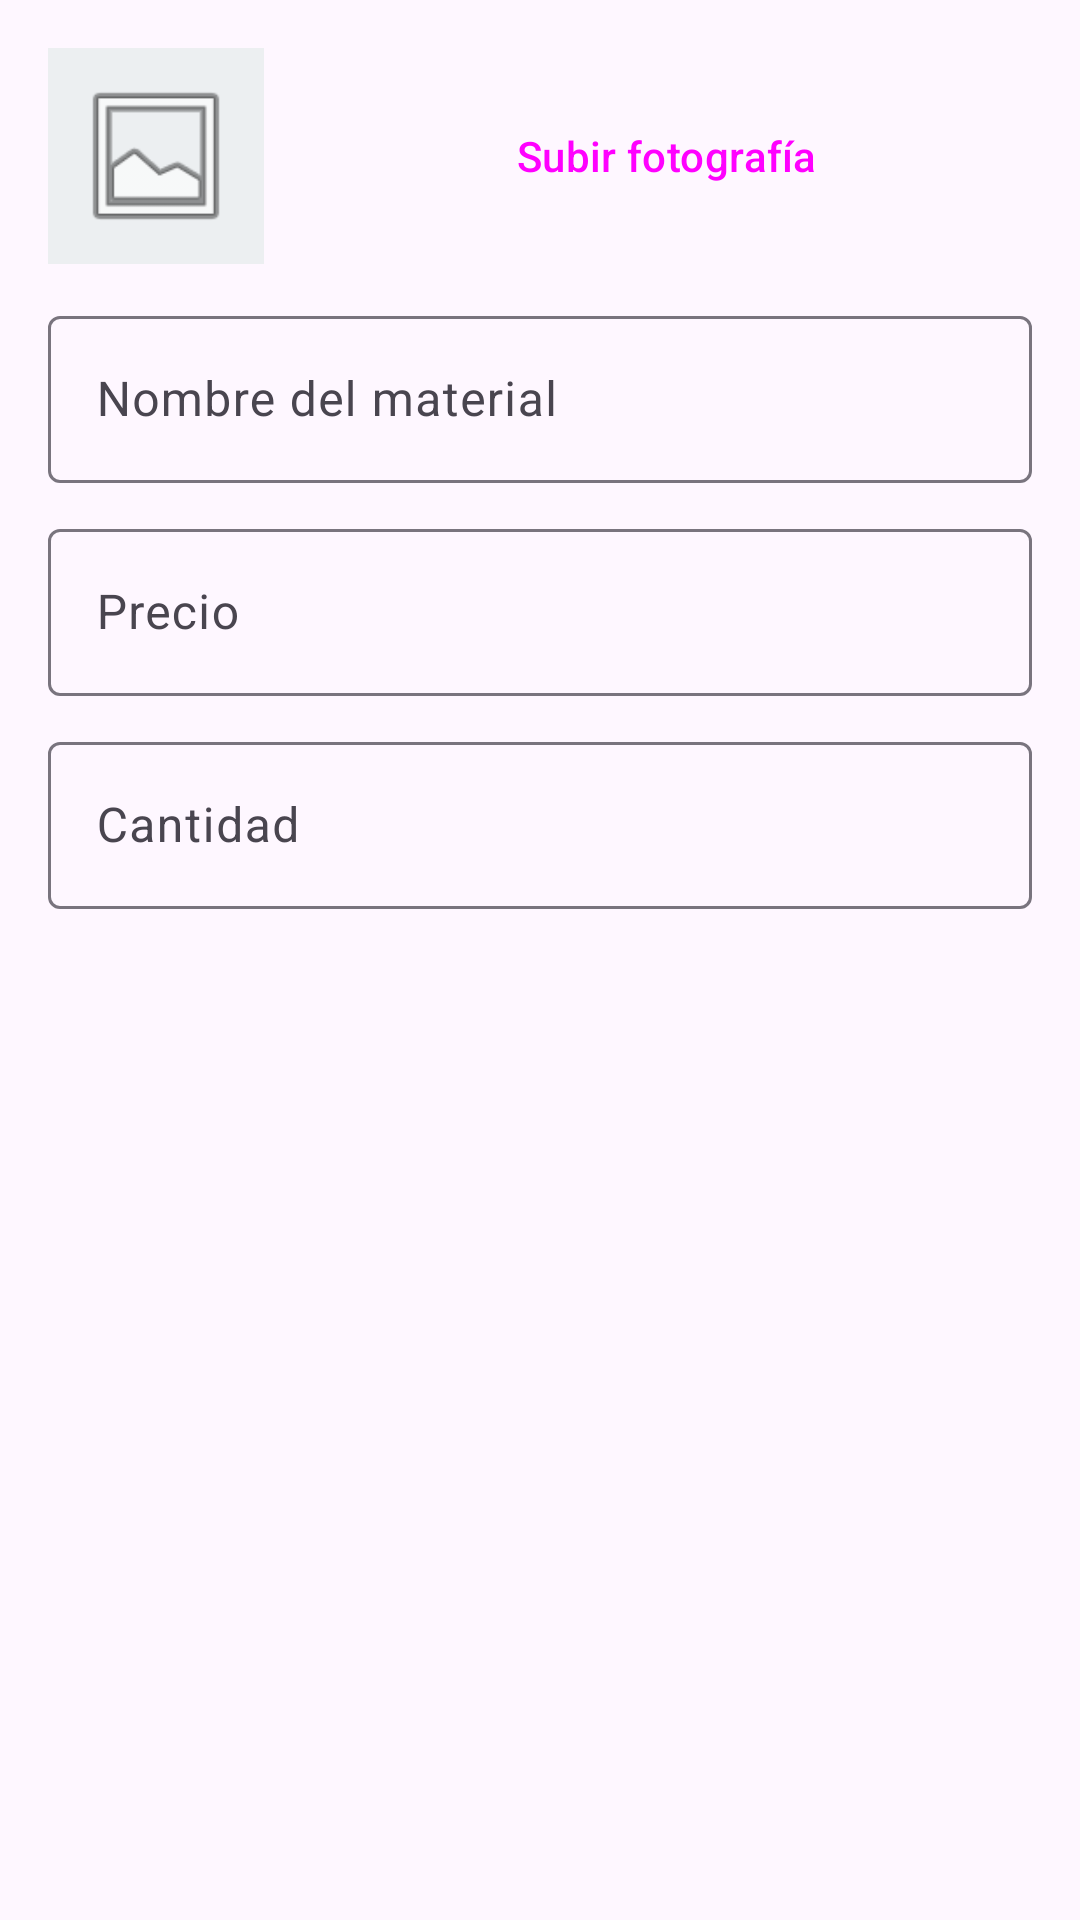

Screen size 1080w x 1920h. Icon name, then its box in pixels as (x1, y1, x2, y2):
Vista previa del material: (48, 48, 264, 264)
